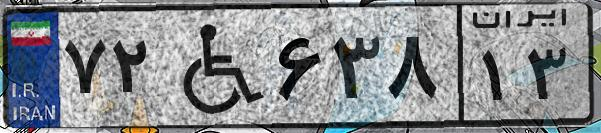1: (475, 38, 525, 113)
2: (110, 28, 158, 98)
3: (330, 28, 385, 110), (525, 38, 570, 115)
6: (270, 28, 330, 110)
7: (57, 26, 110, 100)
8: (385, 28, 445, 110)
ژ (معلولین و جانبازان): (158, 12, 270, 120)
